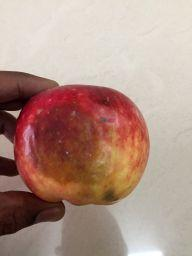Apple Semirotten: (17, 86, 149, 205)
